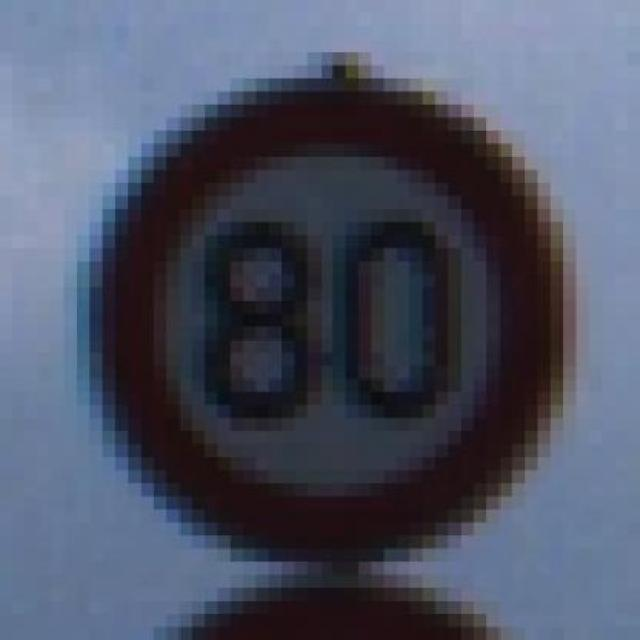forb_speed_over_80: (103, 87, 563, 564)
